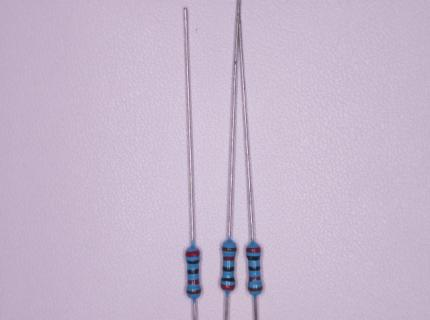Black band: (246, 255, 260, 261), (187, 268, 199, 274), (221, 277, 235, 282), (223, 266, 234, 272), (187, 259, 200, 264), (248, 266, 260, 271)
Brown band: (248, 286, 263, 292), (186, 289, 201, 294), (221, 247, 237, 251)
Red band: (186, 250, 201, 257), (221, 284, 235, 291), (246, 247, 261, 253), (249, 276, 261, 282), (188, 279, 199, 285), (223, 256, 235, 261)
